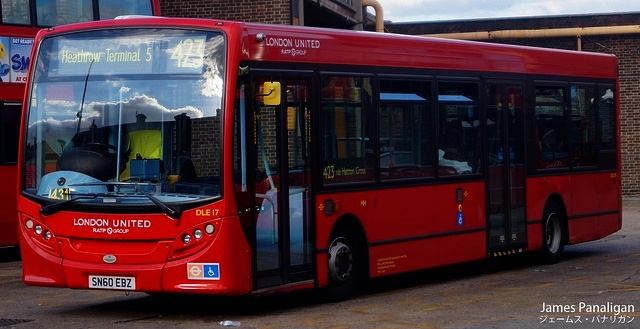bus: (18, 17, 624, 300)
closed_door: (250, 70, 316, 290), (484, 80, 528, 253)
number: (167, 37, 207, 74)
